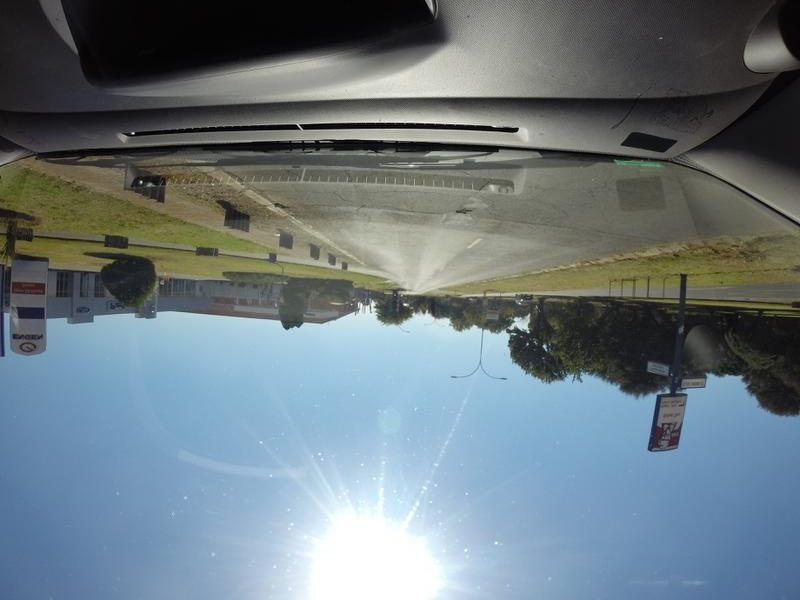pothole: (451, 202, 485, 222), (267, 196, 296, 216)
